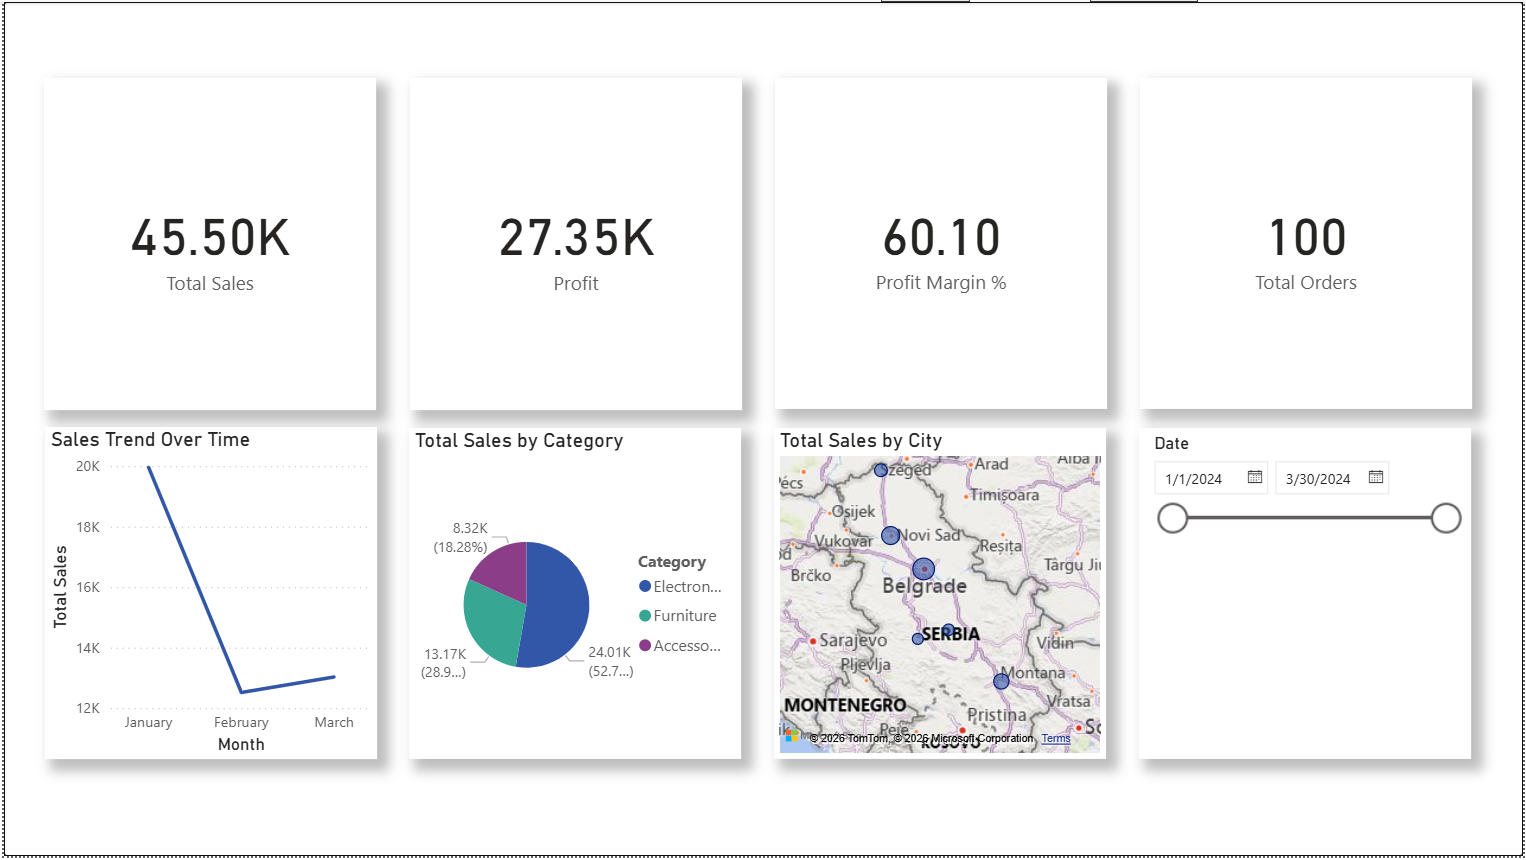

The page's visual inventory and layout, read from the dashboard file:
{"tool":"powerbi","page":{"name":"Sales Overview","canvas":[1280,720],"ordinal":0},"visuals":[{"type":"card","fields":{"Values":["_Measures.Total Sales"]},"box":[34,64.2,280.1,280.1],"z":0},{"type":"card","fields":{"Values":["_Measures.Profit Margin %"]},"box":[650.1,64.2,280.1,279.1],"z":1000},{"type":"card","fields":{"Values":["_Measures.Profit"]},"box":[342,64.2,280.1,280.1],"z":2000},{"type":"card","fields":{"Values":["_Measures.Total Orders"]},"box":[958.1,64.2,280.1,279.1],"z":3000},{"type":"lineChart","title":"Sales Trend Over Time","fields":{"Category":["Sales_Data.Date.Variation.Date Hierarchy.Month"],"Y":["_Measures.Total Sales"]},"box":[34.3,358.1,280,280],"z":4000},{"type":"pieChart","fields":{"Category":["Products.Category"],"Y":["_Measures.Total Sales"]},"box":[341.8,358.9,280.1,279.1],"z":5000},{"type":"map","fields":{"Category":["Customers.City"],"Size":["_Measures.Total Sales"]},"box":[649.4,358.9,280.1,279.1],"z":6000},{"type":"slicer","fields":{"Values":["Sales_Data.Date"]},"box":[957.1,358.9,280.1,279.1],"z":7000}]}

Visuals, with their boxes in screenshot pixels (x1, y1, x2, y2), scaled from the page's 1280x720 canvas onto the 1526x860 screenshot:
card - _Measures.Total Sales: (left=41, top=77, right=374, bottom=411)
card - _Measures.Profit Margin %: (left=775, top=77, right=1109, bottom=410)
card - _Measures.Profit: (left=408, top=77, right=742, bottom=411)
card - _Measures.Total Orders: (left=1142, top=77, right=1476, bottom=410)
"Sales Trend Over Time" lineChart: (left=41, top=428, right=375, bottom=762)
pieChart - Products.Category x _Measures.Total Sales: (left=407, top=429, right=741, bottom=762)
map - Customers.City x _Measures.Total Sales: (left=774, top=429, right=1108, bottom=762)
slicer - Sales_Data.Date: (left=1141, top=429, right=1475, bottom=762)
